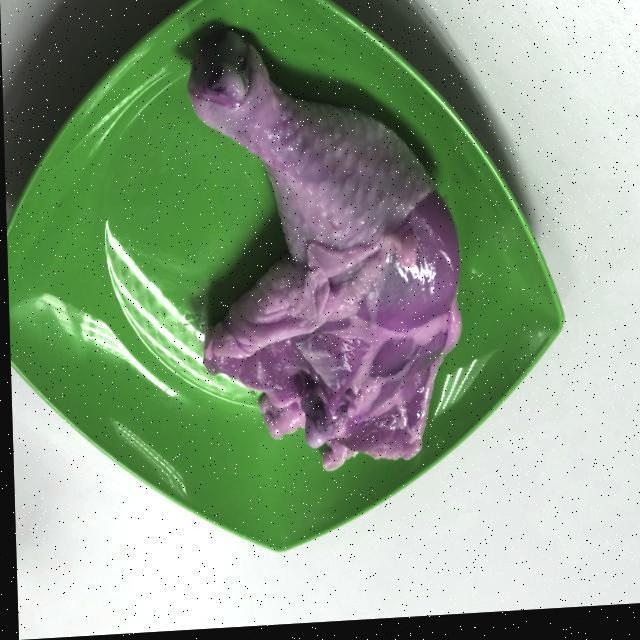quater: (168, 26, 460, 470)
